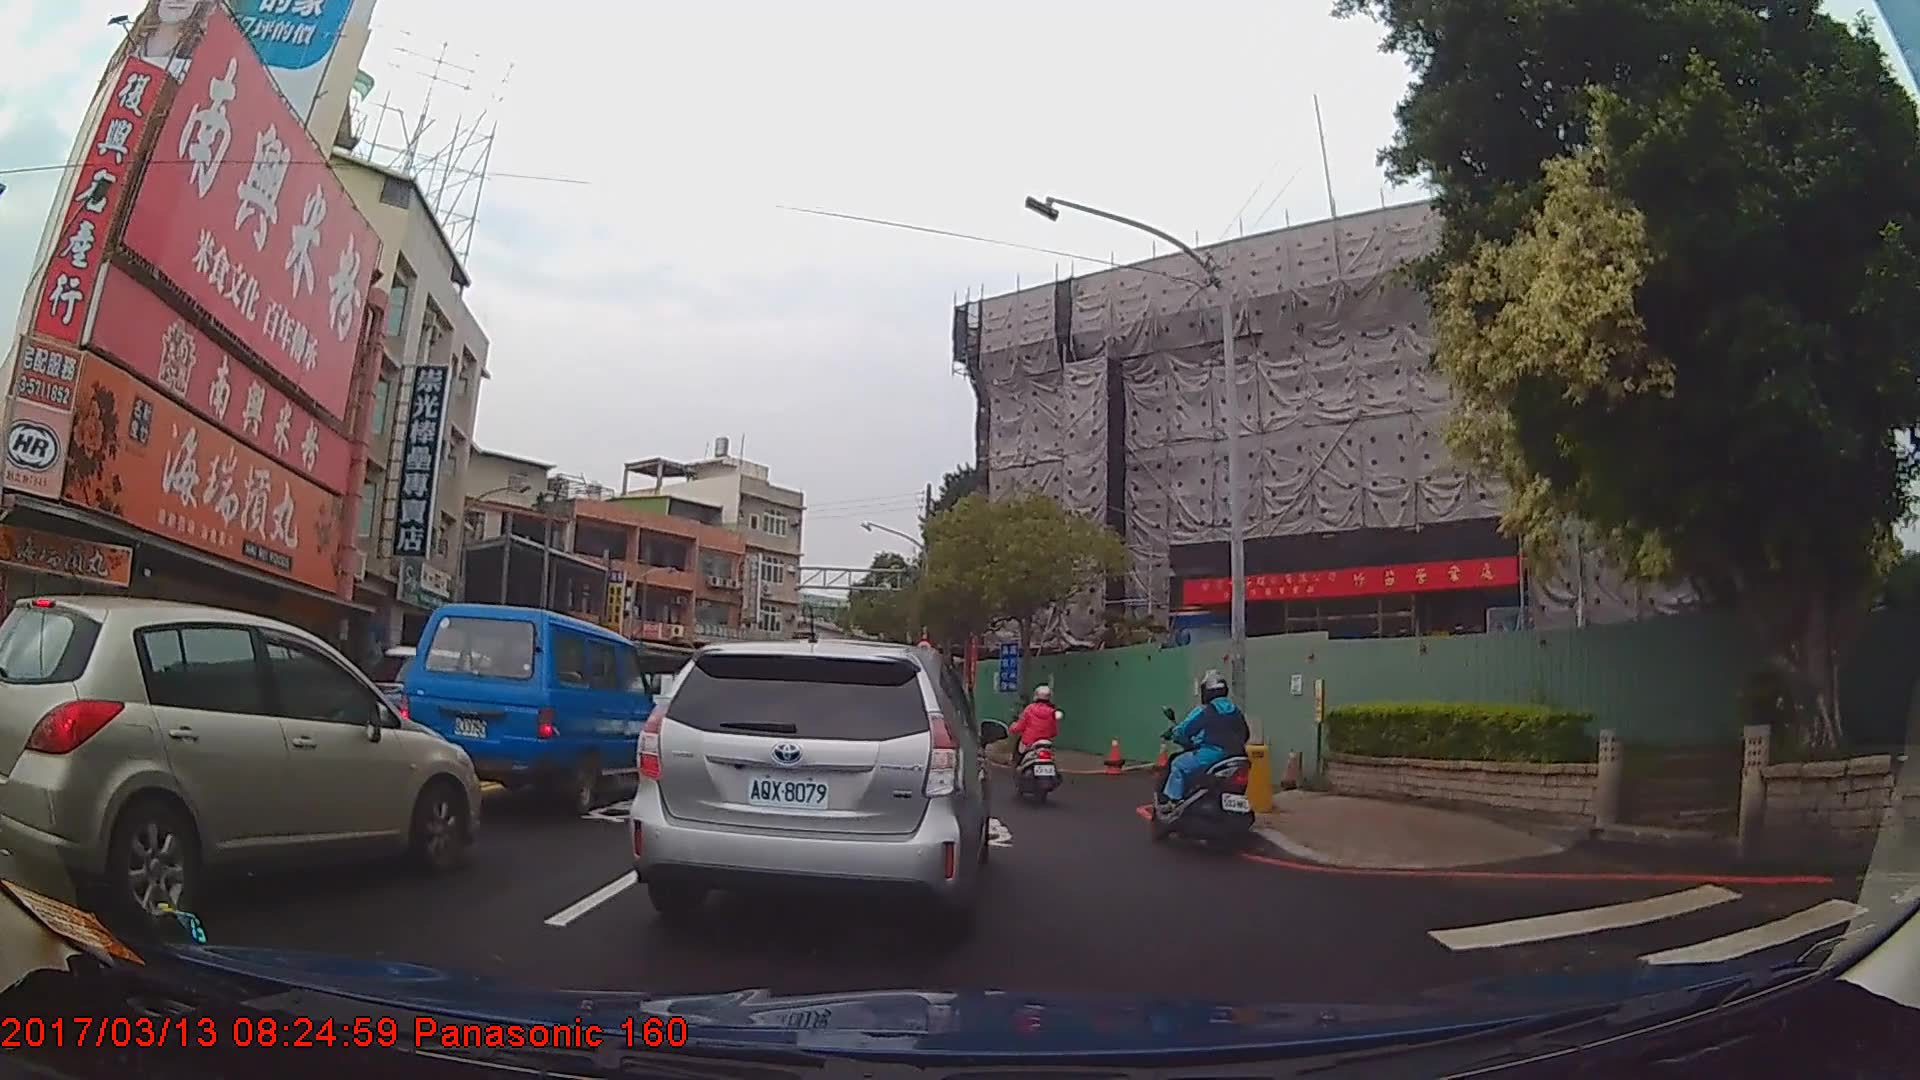rider: (1158, 674, 1262, 852), (1005, 685, 1065, 798)
vehicle: (0, 590, 478, 929), (626, 633, 992, 944), (400, 600, 669, 813)
